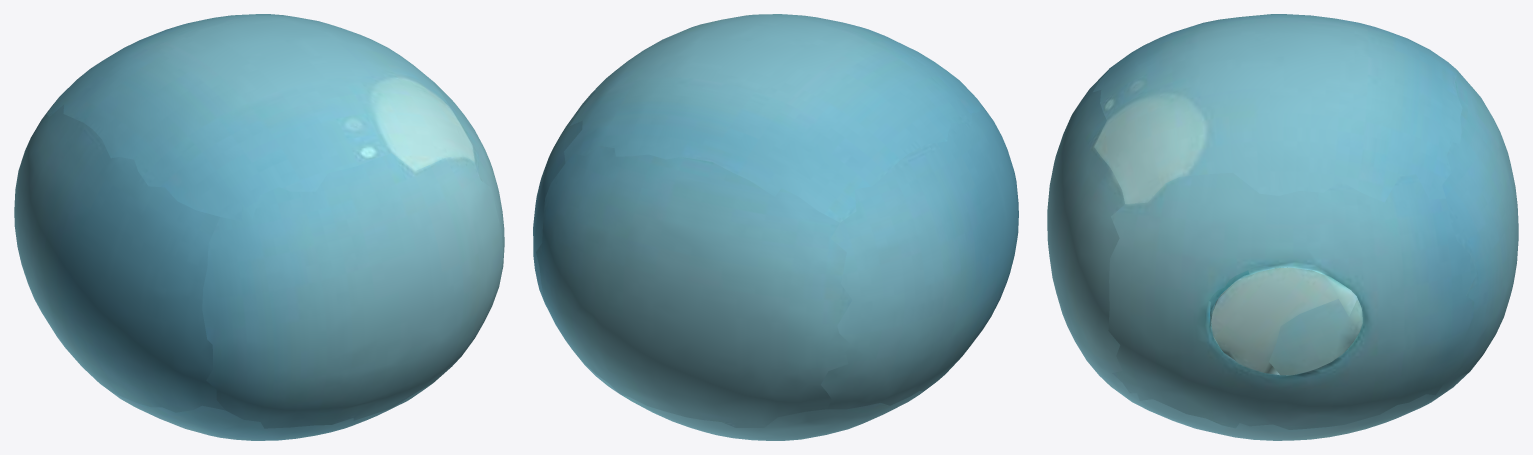
The model's file is duck_egg.glb.
The picture shows the model from 3 angles, left to right: view 1: azimuth 30°, elevation 25°; view 2: azimuth 150°, elevation 25°; view 3: azimuth 270°, elevation 25°; orthographic projection.
Visible parts, largest first — view 1: duck_egg; view 2: duck_egg; view 3: duck_egg.
Boxes of the visible parts, x1,y1,x2,y2 form: duck_egg: (14,14,504,440); duck_egg: (533,14,1018,440); duck_egg: (1047,14,1518,440).
Bounding box in the file's own units: 1 × 0.8713 × 1.
Materials: 1 (1 with a texture image).
